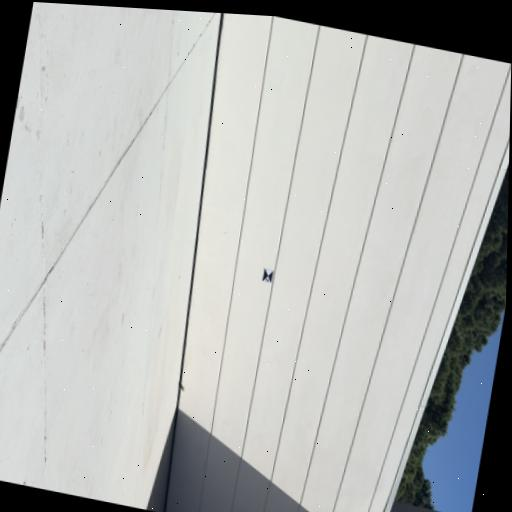target7: (262, 268, 274, 285)
